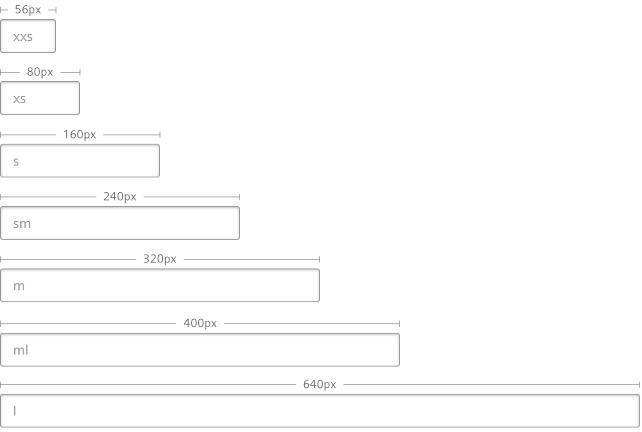input: (1, 395, 641, 429), (2, 334, 401, 366), (2, 269, 321, 302), (1, 207, 240, 241), (2, 145, 161, 178), (1, 82, 81, 115), (1, 20, 57, 54)
